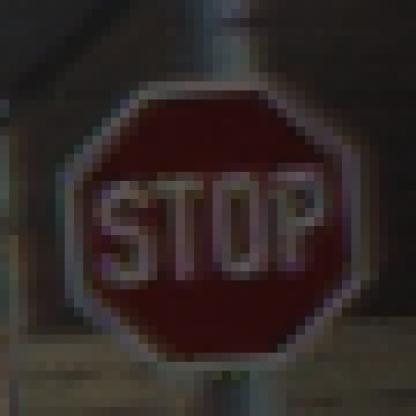Stop: (64, 89, 369, 366)
